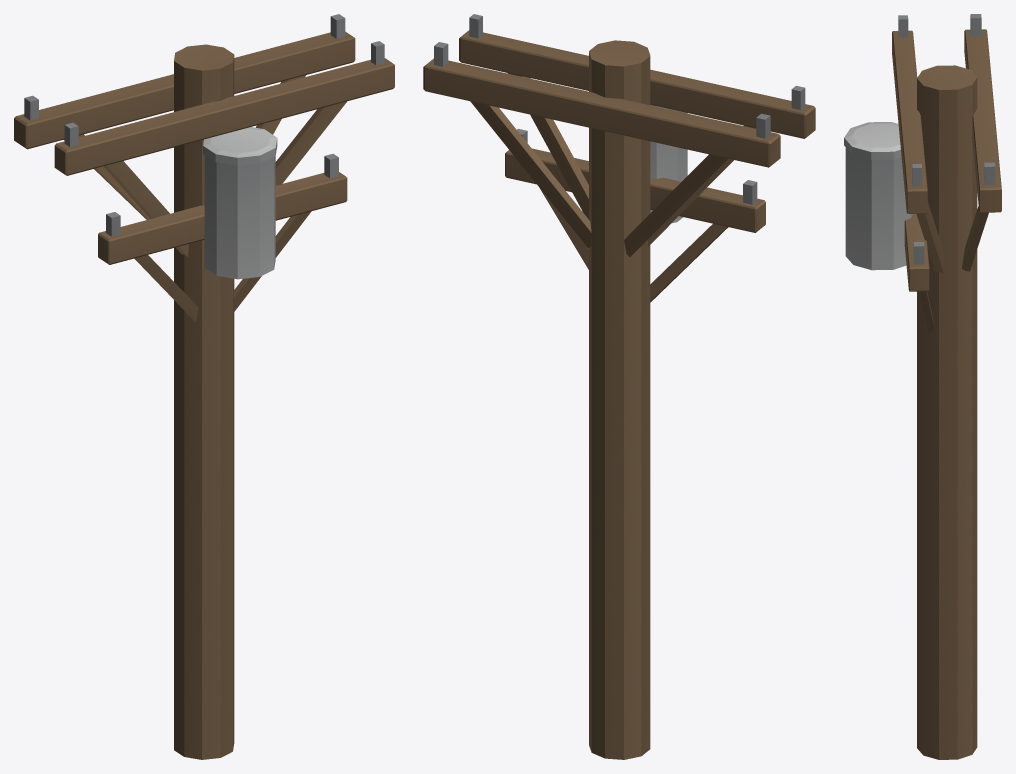
The model's file is electric_pole_1.glb.
3 views of the same model, side by side, from view 1: azimuth 30°, elevation 25°; view 2: azimuth 150°, elevation 25°; view 3: azimuth 270°, elevation 25° (orthographic). The views are drawn at different scales.
Visible parts, largest first — view 1: pole, bar_2, bar_1, capacitator, bar_3, strut_5, strut_3, strut_1, strut_2; view 2: pole, bar_1, bar_2, bar_3, strut_6, strut_4, strut_5, capacitator, strut_1, strut_3; view 3: pole, capacitator, bar_1, bar_2, bar_3, strut_5, strut_6, strut_2.
Part boxes in pixels (x1,y1,x2,y2): pole: (174,44,234,759); bar_2: (54,41,394,175); bar_1: (14,14,355,149); capacitator: (203,127,277,279); bar_3: (98,153,347,264); strut_5: (275,101,346,185); strut_3: (104,161,188,256); strut_1: (134,255,198,321); strut_2: (233,211,311,312); pole: (589,40,650,759); bar_1: (423,42,780,167); bar_2: (459,14,815,138); bar_3: (505,128,765,232); strut_6: (470,101,591,248); strut_4: (624,154,727,256); strut_5: (507,73,588,219); capacitator: (650,104,687,223); strut_1: (650,223,728,302); strut_3: (648,125,756,246); pole: (917,65,977,759); capacitator: (844,122,913,270); bar_1: (964,14,1001,212); bar_2: (892,15,927,213); bar_3: (904,213,929,291); strut_5: (916,201,943,272); strut_6: (962,206,988,271); strut_2: (919,291,934,333).
Bounding box in the file's own units: 3.44 × 6.66 × 1.42.
Materials: 1 (1 with a texture image).
